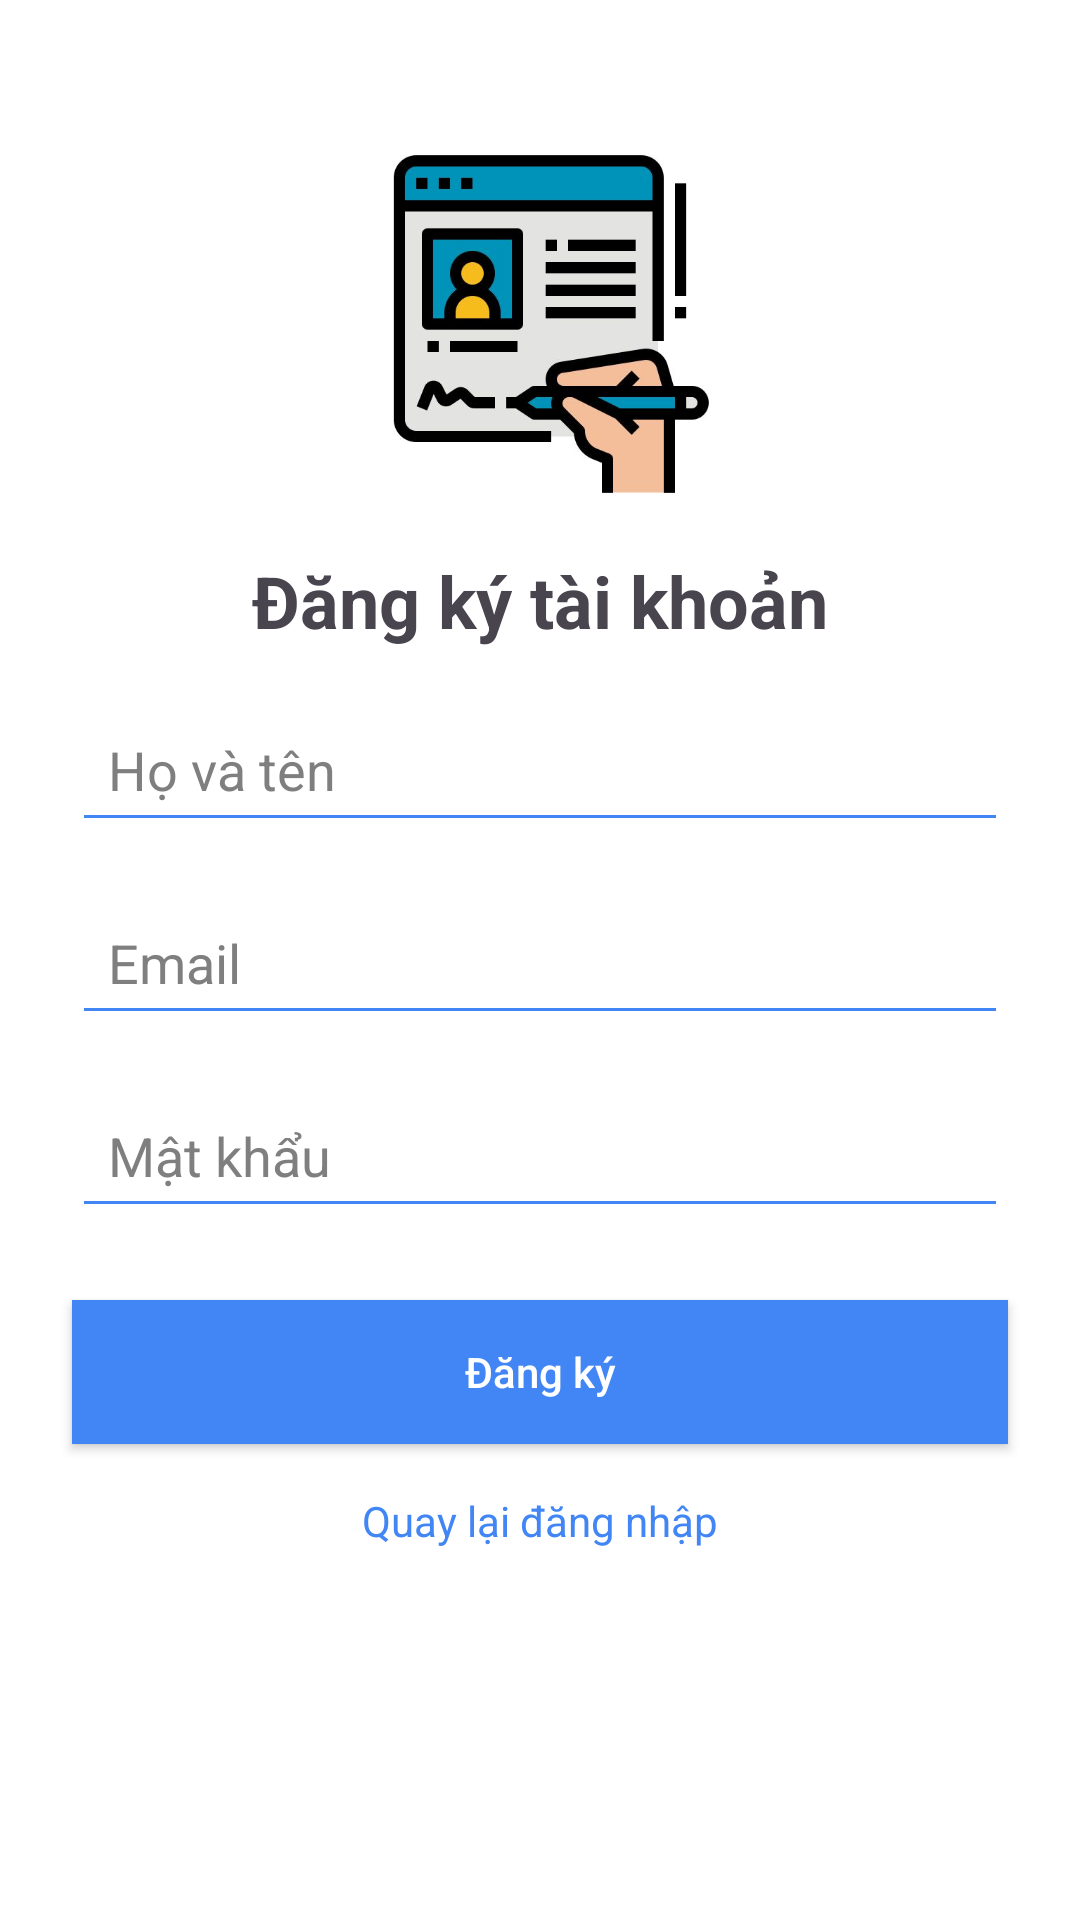

Named icons in this screenshot (1080 × 1920) and their centers, [x,y]:
signin: [551,324]
